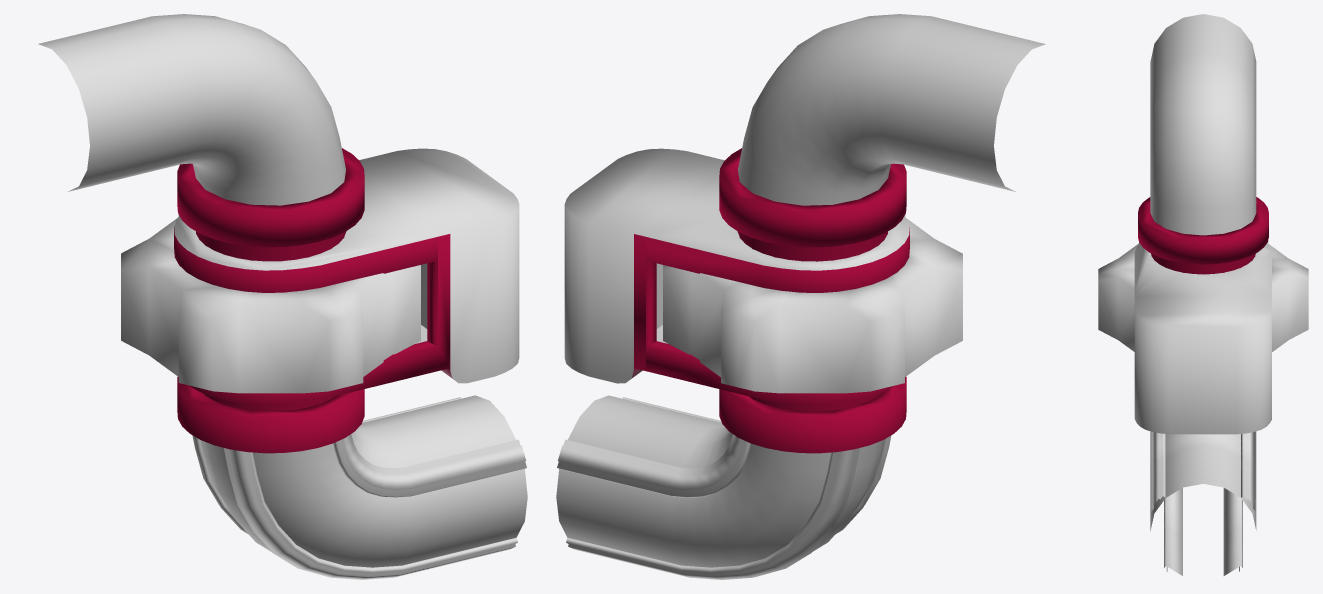
File: PipeUpForwardInternalVariant_Layer1.gltf
The picture shows the model from 3 angles, left to right: view 1: azimuth 30°, elevation 25°; view 2: azimuth 150°, elevation 25°; view 3: azimuth 270°, elevation 25°; orthographic projection. The views are drawn at different scales.
Parts seen in each view (by area): view 1: PipeBake_Pump_LOD0.002, PipeBake_UpFoward_Glas_LOD0.002, PipeBake_Rotator_LOD0.002, PipeBake_ForwardUp_Glas_LOD0.002, PipeBake_SolidIn_Layer1_LOD0.001; view 2: PipeBake_Pump_LOD0.002, PipeBake_UpFoward_Glas_LOD0.002, PipeBake_Rotator_LOD0.002, PipeBake_ForwardUp_Glas_LOD0.002, PipeBake_SolidIn_Layer1_LOD0.001; view 3: PipeBake_Pump_LOD0.002, PipeBake_UpFoward_Glas_LOD0.002, PipeBake_Rotator_LOD0.002, PipeBake_SolidIn_Layer1_LOD0.001, PipeBake_ForwardUp_Glas_LOD0.002.
Part boxes in pixels (left/top/right/bottom): PipeBake_Pump_LOD0.002: left=174, top=148, right=519, bottom=453; PipeBake_UpFoward_Glas_LOD0.002: left=38, top=14, right=345, bottom=205; PipeBake_Rotator_LOD0.002: left=121, top=215, right=420, bottom=393; PipeBake_ForwardUp_Glas_LOD0.002: left=200, top=395, right=527, bottom=567; PipeBake_SolidIn_Layer1_LOD0.001: left=192, top=397, right=526, bottom=579; PipeBake_Pump_LOD0.002: left=564, top=148, right=909, bottom=453; PipeBake_UpFoward_Glas_LOD0.002: left=738, top=14, right=1045, bottom=205; PipeBake_Rotator_LOD0.002: left=663, top=215, right=962, bottom=393; PipeBake_ForwardUp_Glas_LOD0.002: left=556, top=395, right=883, bottom=567; PipeBake_SolidIn_Layer1_LOD0.001: left=557, top=397, right=891, bottom=579; PipeBake_Pump_LOD0.002: left=1134, top=197, right=1271, bottom=434; PipeBake_UpFoward_Glas_LOD0.002: left=1150, top=14, right=1256, bottom=235; PipeBake_Rotator_LOD0.002: left=1098, top=241, right=1308, bottom=351; PipeBake_SolidIn_Layer1_LOD0.001: left=1151, top=431, right=1255, bottom=575; PipeBake_ForwardUp_Glas_LOD0.002: left=1150, top=431, right=1256, bottom=531.
Size of the model in its own units: 1 by 1.3 by 0.5946.
